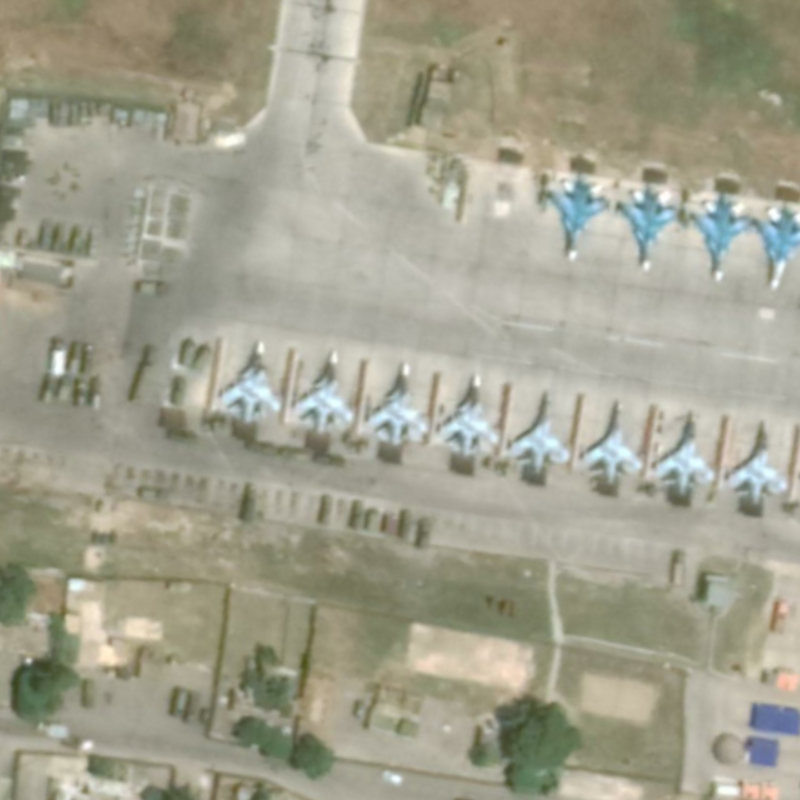A1: (504, 385, 574, 476), (650, 407, 718, 500), (578, 396, 647, 485), (725, 417, 790, 510)
A19: (541, 173, 612, 264), (691, 189, 757, 284), (362, 356, 431, 446), (289, 345, 357, 436), (433, 369, 503, 457), (617, 178, 681, 274), (218, 335, 283, 423), (751, 198, 800, 291)
